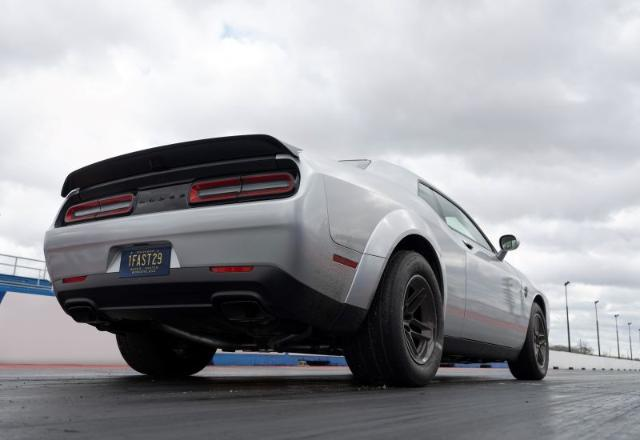dodge: (43, 132, 551, 386)
